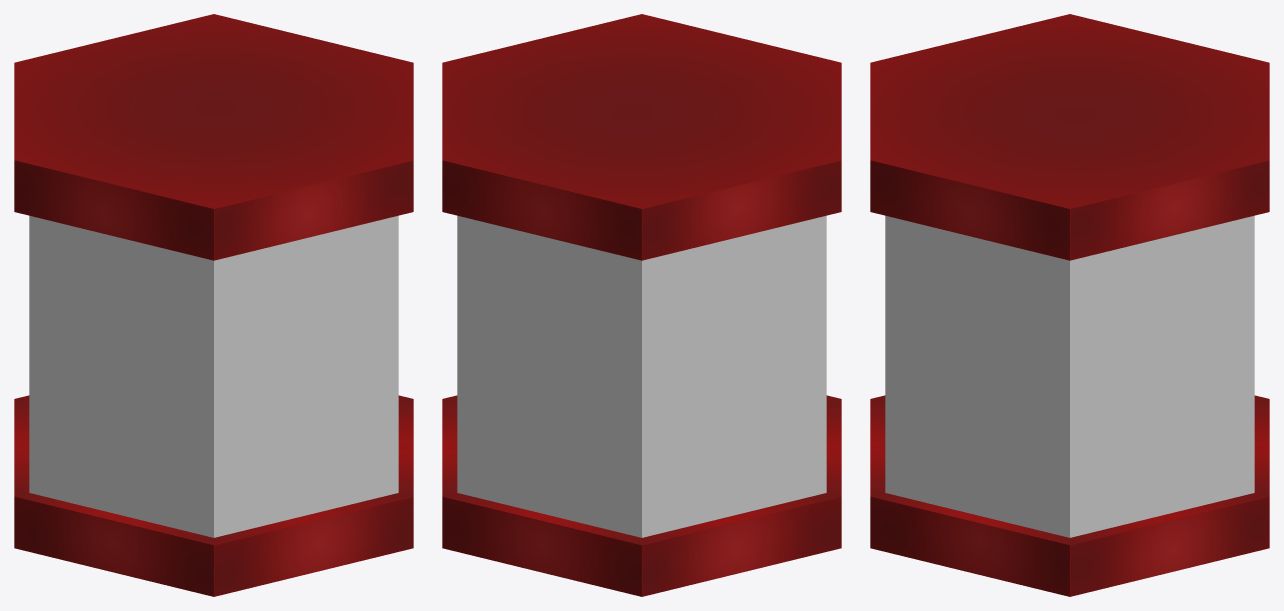
The model's file is jailCage.fbx.
3 renders of one model, left to right at view 1: azimuth 30°, elevation 25°; view 2: azimuth 150°, elevation 25°; view 3: azimuth 270°, elevation 25°, orthographic.
Parts seen in each view (by area): view 1: cylinder_1, cylinder_2, cylinder; view 2: cylinder_1, cylinder_2, cylinder; view 3: cylinder_1, cylinder_2, cylinder.
Boxes of the visible parts, box(x1,y1,x2,y2) form: cylinder_1: box(29, 215, 398, 537); cylinder_2: box(14, 14, 413, 260); cylinder: box(14, 395, 413, 596); cylinder_1: box(457, 215, 826, 537); cylinder_2: box(442, 14, 841, 260); cylinder: box(442, 395, 841, 596); cylinder_1: box(885, 215, 1254, 537); cylinder_2: box(870, 14, 1269, 260); cylinder: box(870, 395, 1269, 596).
Bounding box in the file's own units: 303 × 281 × 262.
Materials: 1 (1 with a texture image).
